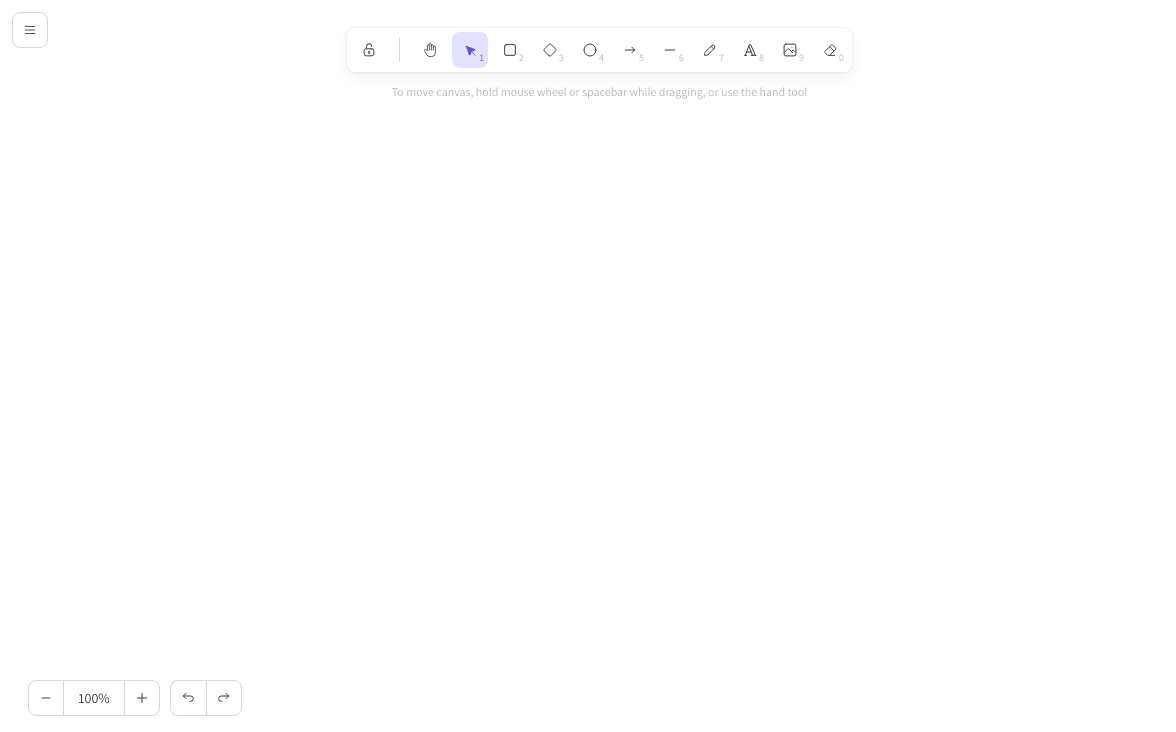
<Creativeboard/> › Test theme prop › should show the theme toggle by default
Click the button with class "dropdown-menu-button". click: {"x": 30, "y": 30}
box: [12, 12, 48, 48]
(page scrolled)
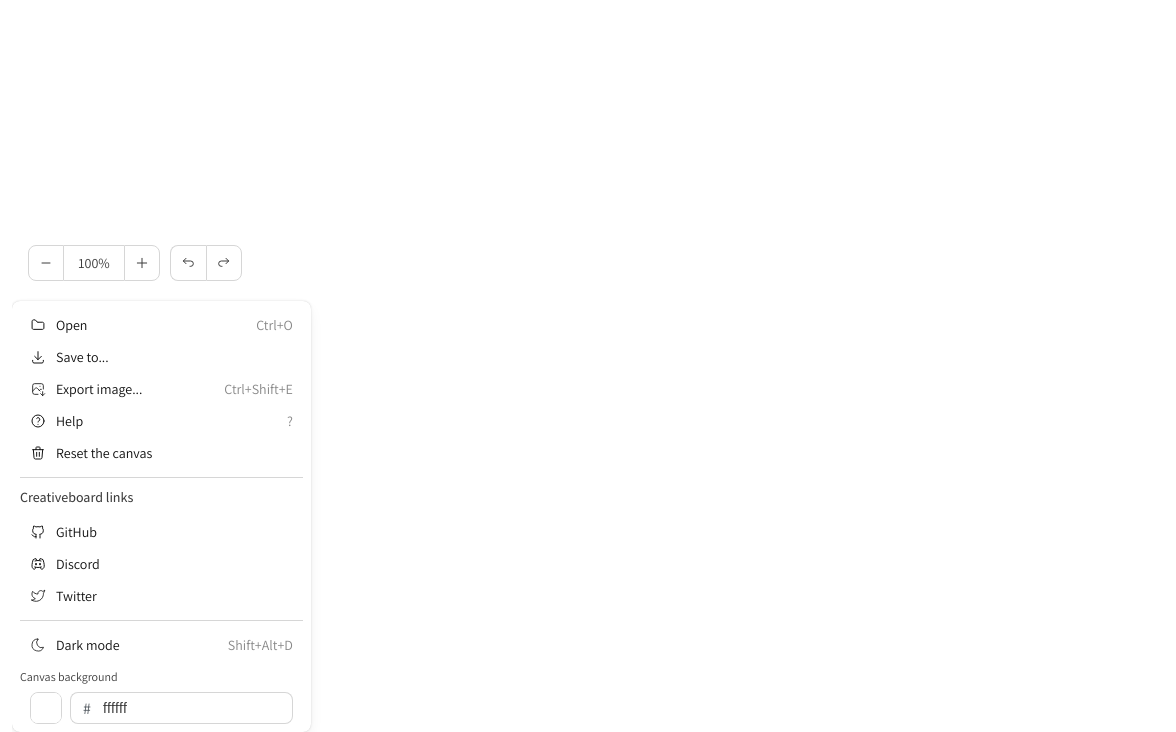
Now the button with test id "toggle-dark-mode" is shown, box [20, 629, 303, 661]
